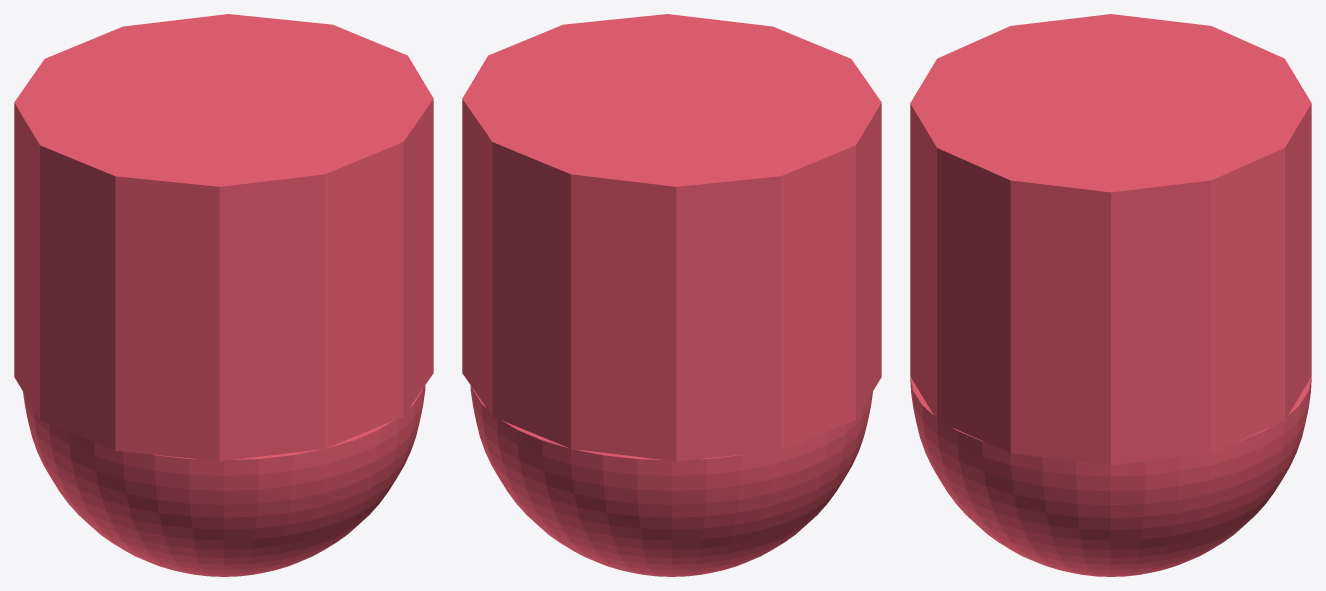
Rendered from tip_attack.glb.
3 views of the same model, side by side, from view 1: azimuth 30°, elevation 25°; view 2: azimuth 150°, elevation 25°; view 3: azimuth 270°, elevation 25° (orthographic).
Visible parts, largest first — view 1: obj_4; view 2: obj_4; view 3: obj_4.
Boxes of the visible parts, box(x1,y1,x2,y2) form: obj_4: box(14, 14, 433, 576); obj_4: box(462, 14, 881, 576); obj_4: box(910, 14, 1311, 576).
Bounding box in the file's own units: 4.21 × 5 × 4.
